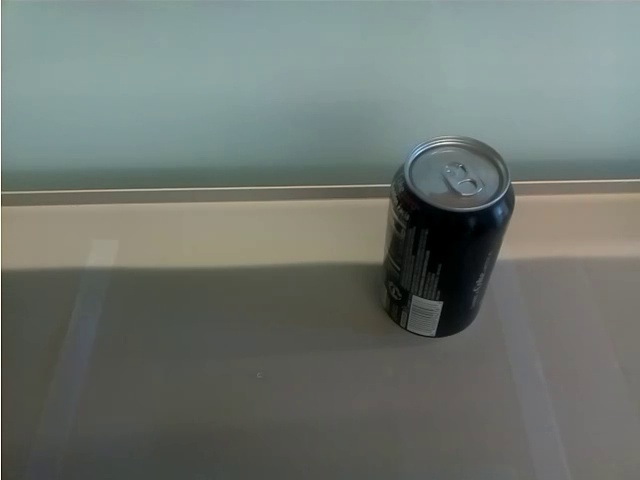cocacola: (386, 131, 517, 340)
